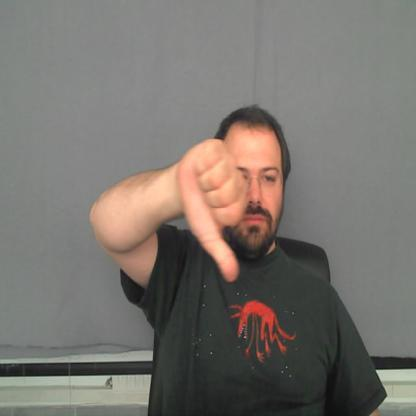thumbs-down: (180, 137, 252, 282)
